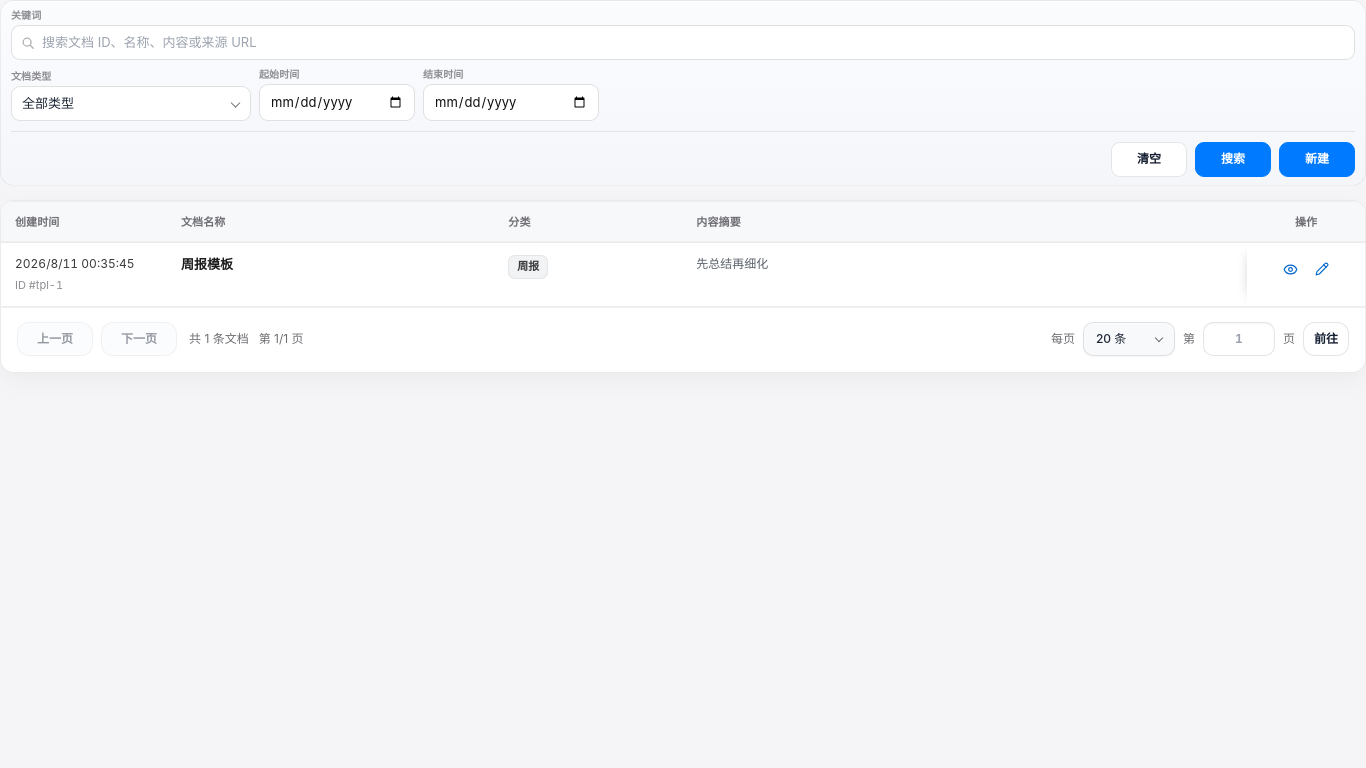
Test: Bake 详情展示优化 › 更新任务失败不会把已有完整正文标记成不完整
Click the button named "查看文档「周报模板」详情". click: (1290, 269)
box: [1276,255,1304,283]
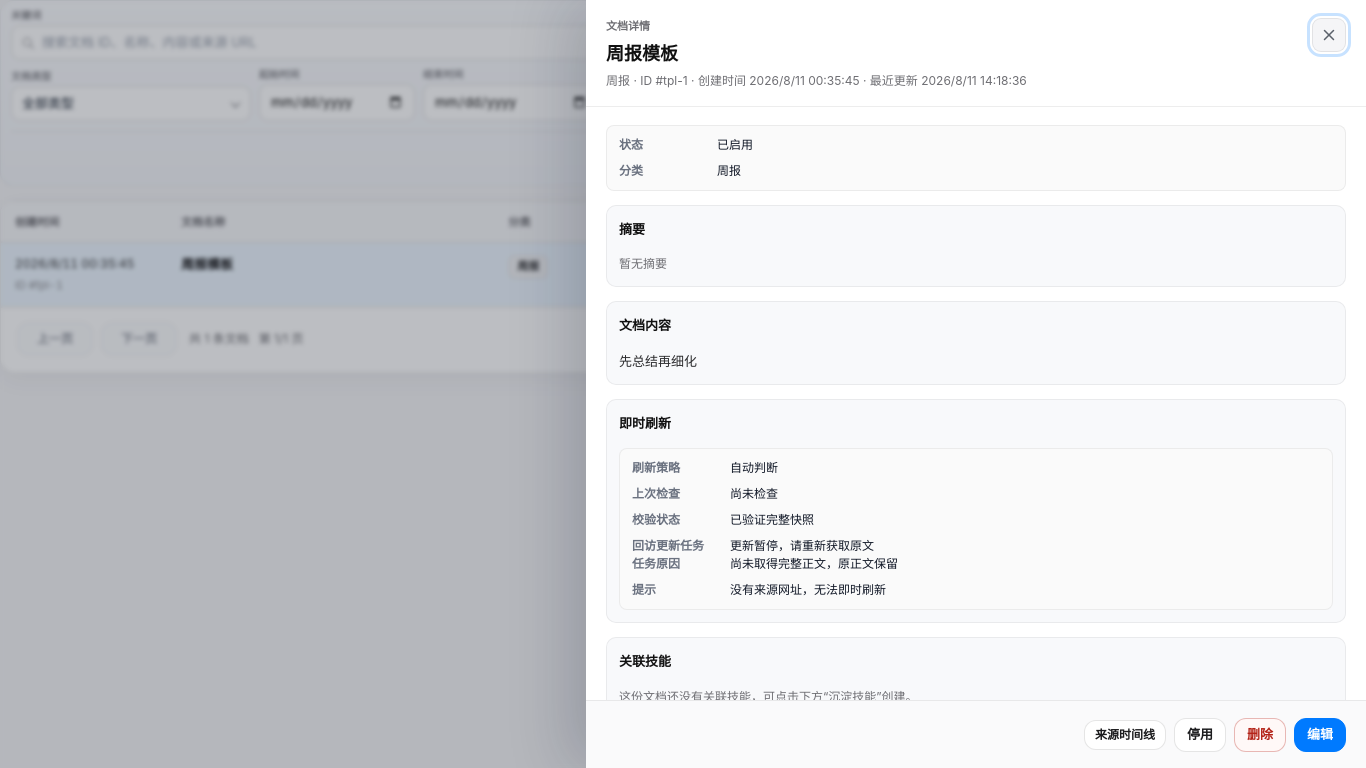
Result: the text "更新暂停，请重新获取原文" is shown at [730,538,874,554]
Result: the text "尚未取得完整正文，原正文保留" is shown at [730,556,898,572]
Result: the text "已验证完整快照" is shown at [730,512,814,528]
